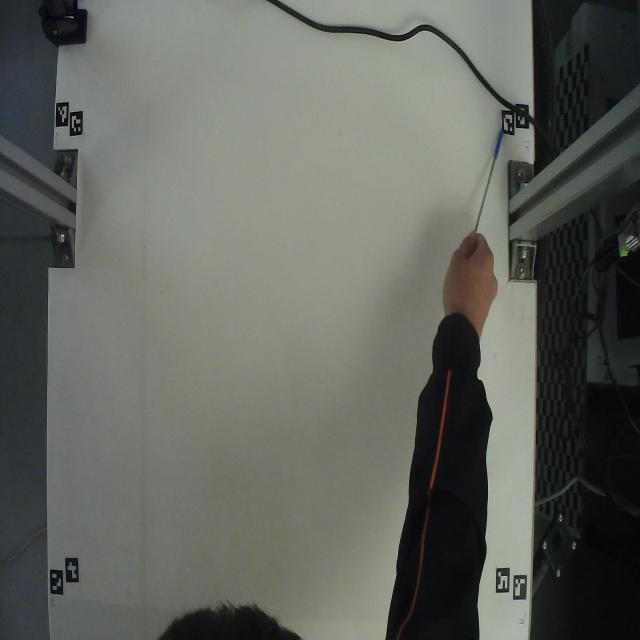Pres: (453, 97, 526, 245)
